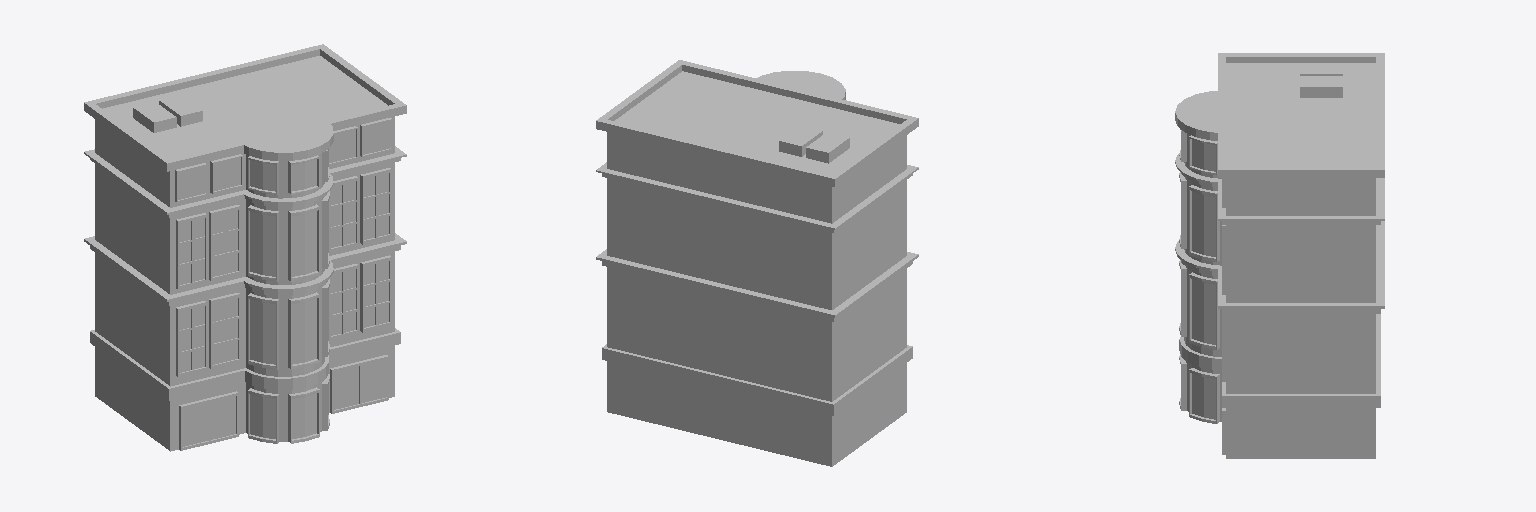
File: building6.obj
The picture shows the model from 3 angles: view 1: azimuth 30°, elevation 25°; view 2: azimuth 150°, elevation 25°; view 3: azimuth 270°, elevation 25°; orthographic projection.
Parts seen in each view (by area): view 1: texture_finish_now:pCylinder2; view 2: texture_finish_now:pCylinder2; view 3: texture_finish_now:pCylinder2.
Part boxes in pixels (left/top/right/bottom): texture_finish_now:pCylinder2: left=84, top=44, right=406, bottom=451; texture_finish_now:pCylinder2: left=596, top=60, right=918, bottom=466; texture_finish_now:pCylinder2: left=1175, top=53, right=1384, bottom=458.
Size of the model in its own units: 6.5 by 7.7 by 4.93.